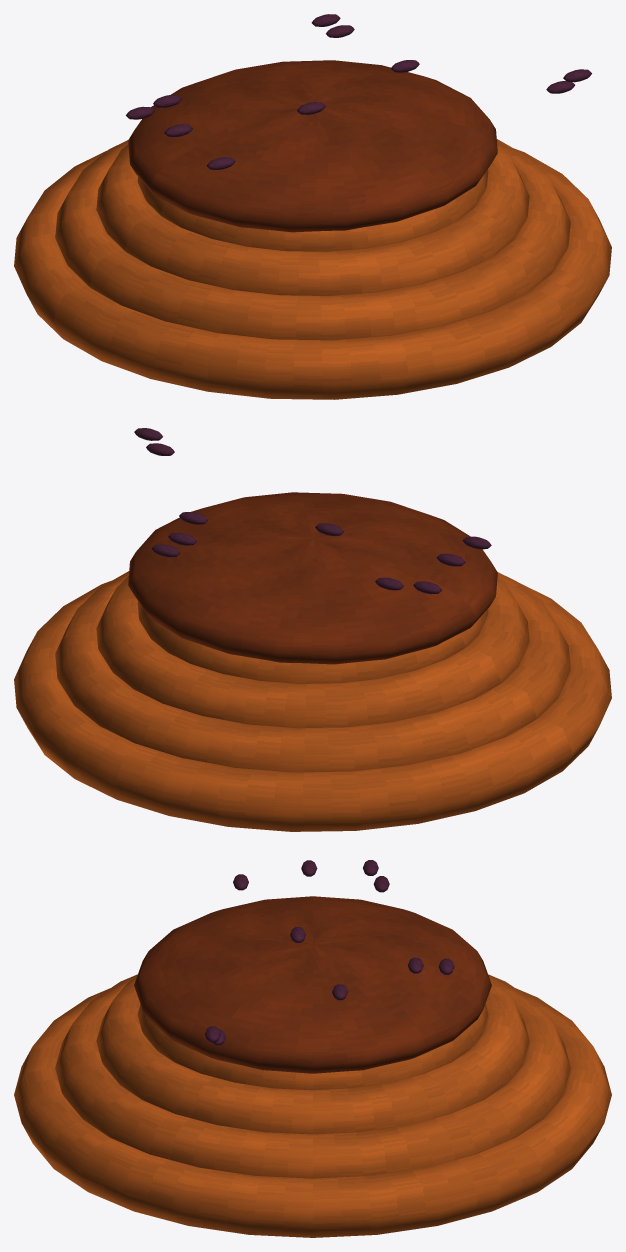
Rendered from bread_raisin_caramel_danish.glb.
3 renders of one model, top to bottom at view 1: azimuth 30°, elevation 25°; view 2: azimuth 150°, elevation 25°; view 3: azimuth 270°, elevation 25°, orthographic.
Parts seen in each view (by area): view 1: フィリング.004, パイ生地の渦巻き.016, パイ生地の渦巻き.017, パイ生地の渦巻き.018, パイ生地の渦巻き.019; view 2: フィリング.004, パイ生地の渦巻き.016, パイ生地の渦巻き.017, パイ生地の渦巻き.018, パイ生地の渦巻き.019; view 3: フィリング.004, パイ生地の渦巻き.016, パイ生地の渦巻き.017, パイ生地の渦巻き.018, パイ生地の渦巻き.019.
Part boxes in pixels (x1,y1,x2,y2): フィリング.004: [128, 60, 497, 232]; パイ生地の渦巻き.016: [14, 148, 611, 399]; パイ生地の渦巻き.017: [55, 139, 570, 340]; パイ生地の渦巻き.018: [96, 144, 529, 295]; パイ生地の渦巻き.019: [137, 169, 488, 251]; フィリング.004: [128, 492, 497, 664]; パイ生地の渦巻き.016: [14, 581, 611, 831]; パイ生地の渦巻き.017: [55, 571, 570, 772]; パイ生地の渦巻き.018: [96, 576, 529, 728]; パイ生地の渦巻き.019: [137, 601, 488, 683]; フィリング.004: [134, 896, 491, 1073]; パイ生地の渦巻き.016: [14, 988, 611, 1237]; パイ生地の渦巻き.017: [55, 974, 570, 1178]; パイ生地の渦巻き.018: [96, 976, 529, 1134]; パイ生地の渦巻き.019: [137, 1004, 488, 1090].
Bounding box in the file's own units: 0.668 × 0.2458 × 0.668.
3 materials, 3 textured.
